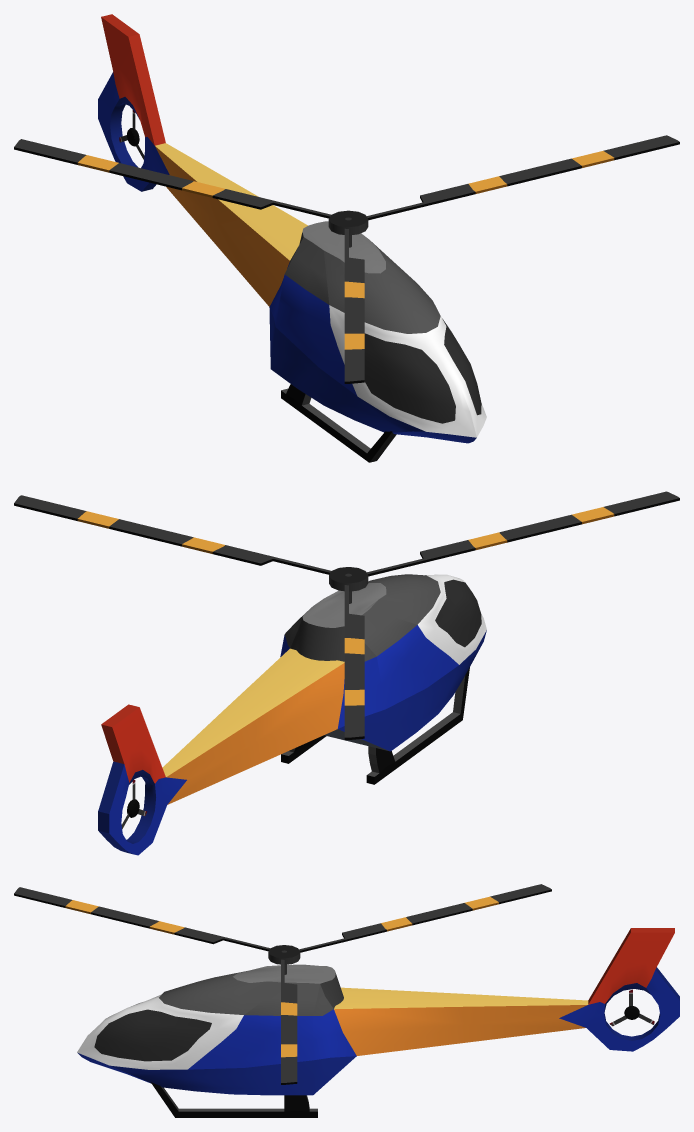
The model's file is Heli_3.fbx.
3 renders of one model, top to bottom at view 1: azimuth 30°, elevation 25°; view 2: azimuth 150°, elevation 25°; view 3: azimuth 270°, elevation 25°, orthographic. The views are drawn at different scales.
Parts seen in each view (by area): view 1: Body, Rotor; view 2: Body, Rotor; view 3: Body, Rotor.
Part boxes in pixels (x1=…): Body: x1=98, y1=14, x2=486, y2=462; Rotor: x1=14, y1=135, x2=679, y2=383; Body: x1=98, y1=574, x2=486, y2=855; Rotor: x1=14, y1=491, x2=679, y2=739; Body: x1=77, y1=928, x2=679, y2=1117; Rotor: x1=14, y1=884, x2=551, y2=1084.
Size of the model in its own units: 823 by 326 by 1164.
